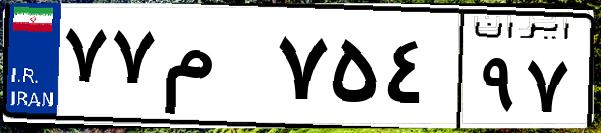4: (385, 28, 445, 110)
5: (330, 28, 385, 110)
7: (270, 28, 330, 110), (57, 26, 110, 100), (525, 38, 570, 115), (110, 28, 158, 98)
9: (475, 38, 525, 113)
م: (158, 20, 270, 120)
